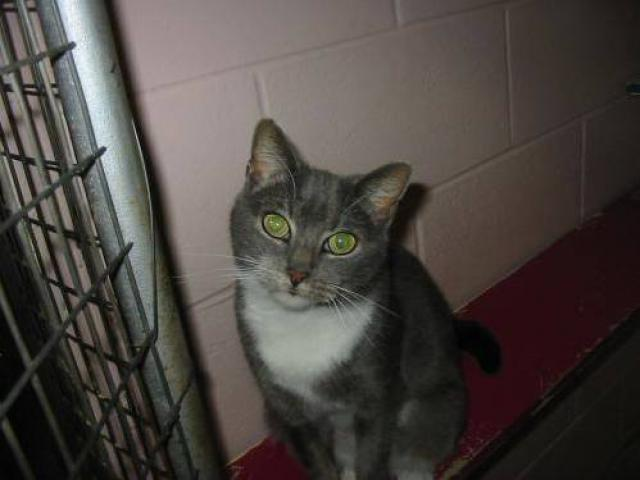cat: (215, 116, 492, 480)
